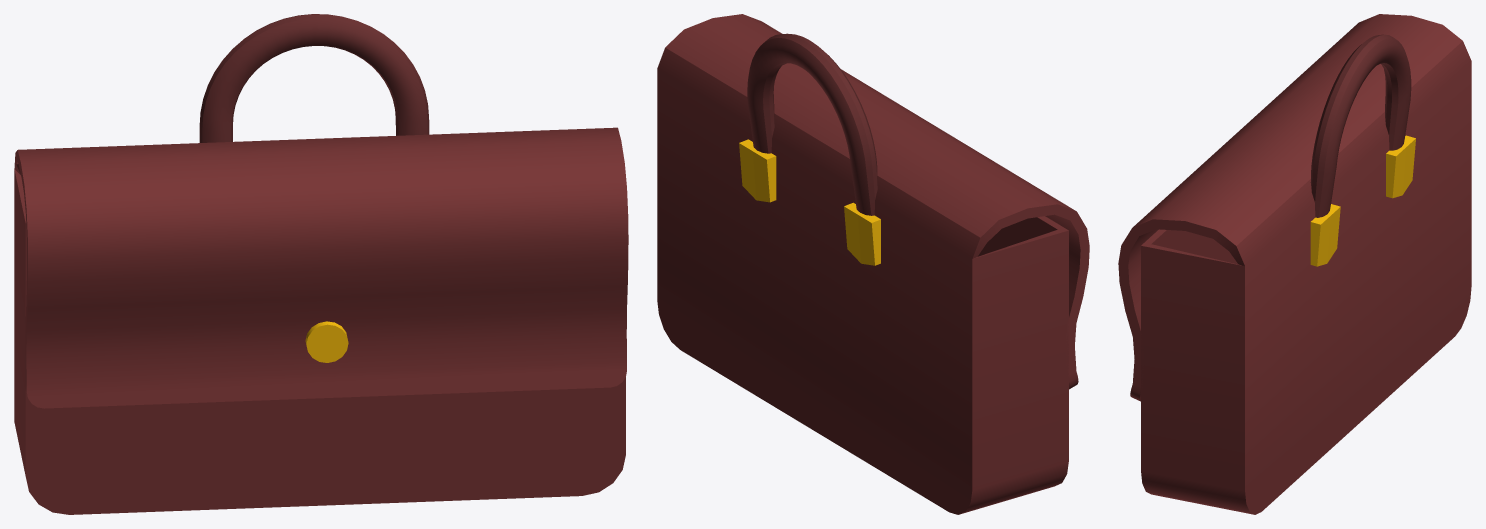
Rendered from briefcase.glb.
3 views of the same model, side by side, from view 1: azimuth 30°, elevation 25°; view 2: azimuth 150°, elevation 25°; view 3: azimuth 270°, elevation 25° (orthographic). The views are drawn at different scales.
Visible parts, largest first — view 1: Cube.6128; view 2: Cube.6128; view 3: Cube.6128.
Boxes of the visible parts, x1,y1,x2,y2 form: Cube.6128: (14, 14, 628, 514); Cube.6128: (657, 14, 1089, 514); Cube.6128: (1118, 14, 1471, 514).
Size of the model in its own units: 2.11 by 1.64 by 1.37.
Materials: 1 (1 with a texture image).
